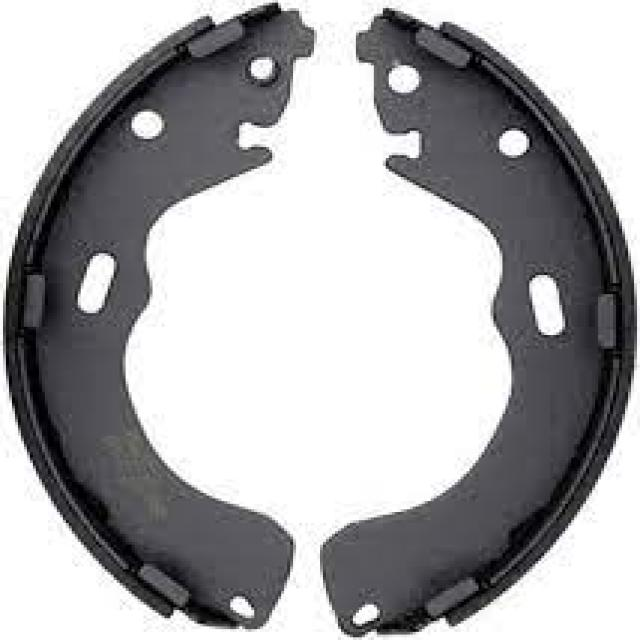brake_pad: (4, 0, 334, 640), (346, 4, 640, 640)
